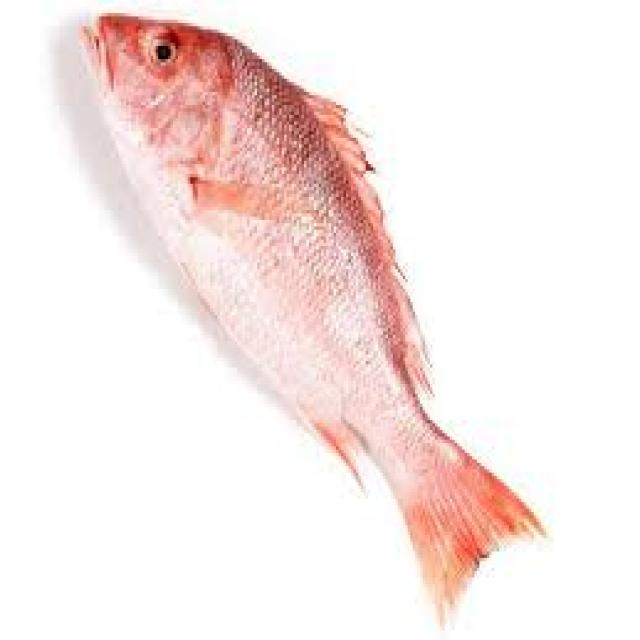northern-red-snapper: (62, 0, 553, 640)
